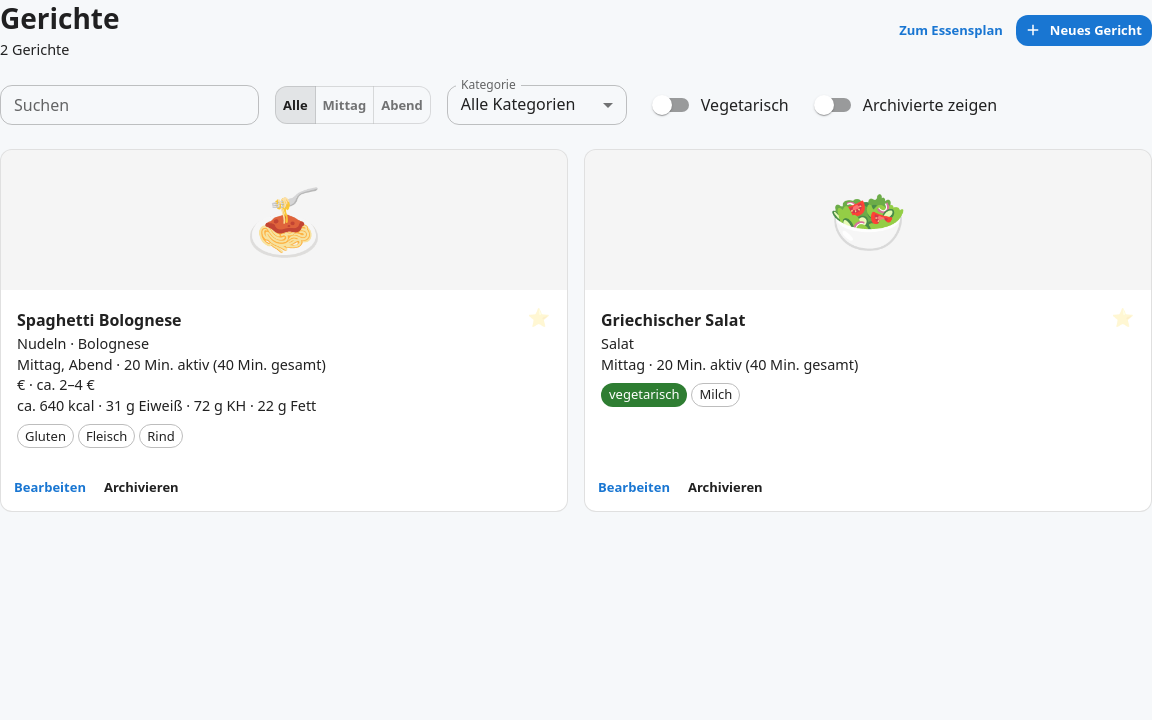
Test: DishesPage (FOOD-010) › opens the editor for a new and an existing dish
Click the button "Neues Gericht". click: (1084, 30)
box: x1=1016 y1=15 x2=1151 y2=46
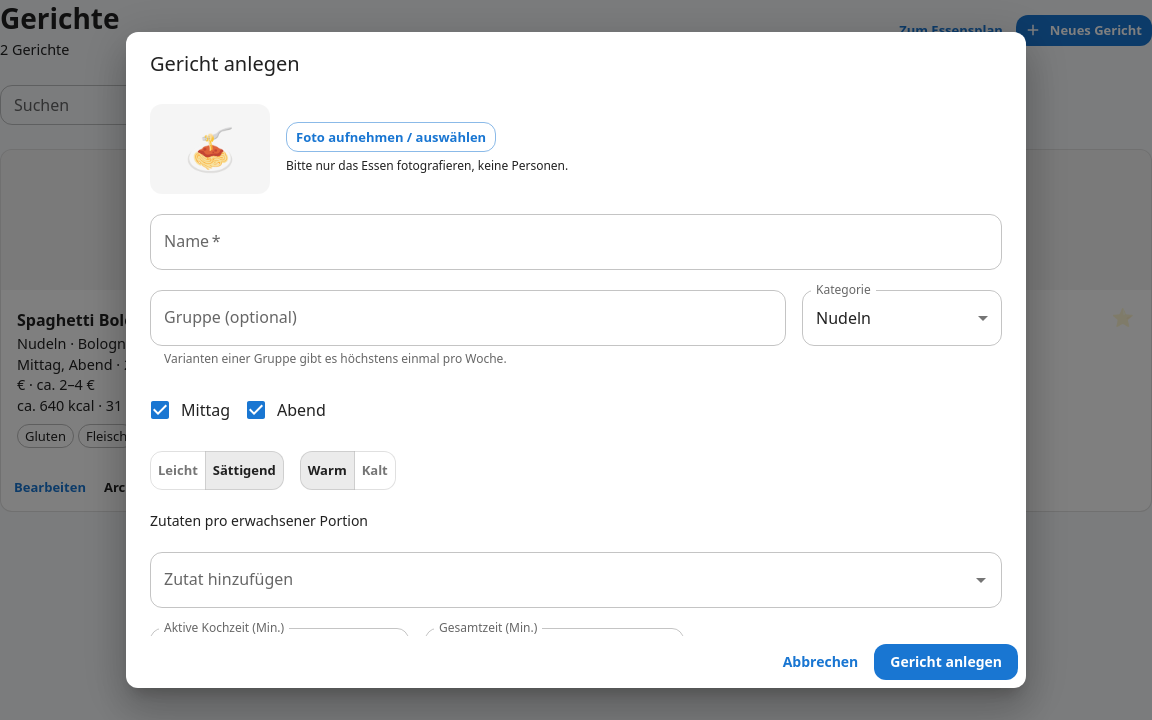
Expected: the dialog "Gericht anlegen" is shown
Click the button "Abbrechen". click: (820, 662)
box: x1=775 y1=644 x2=866 y2=680
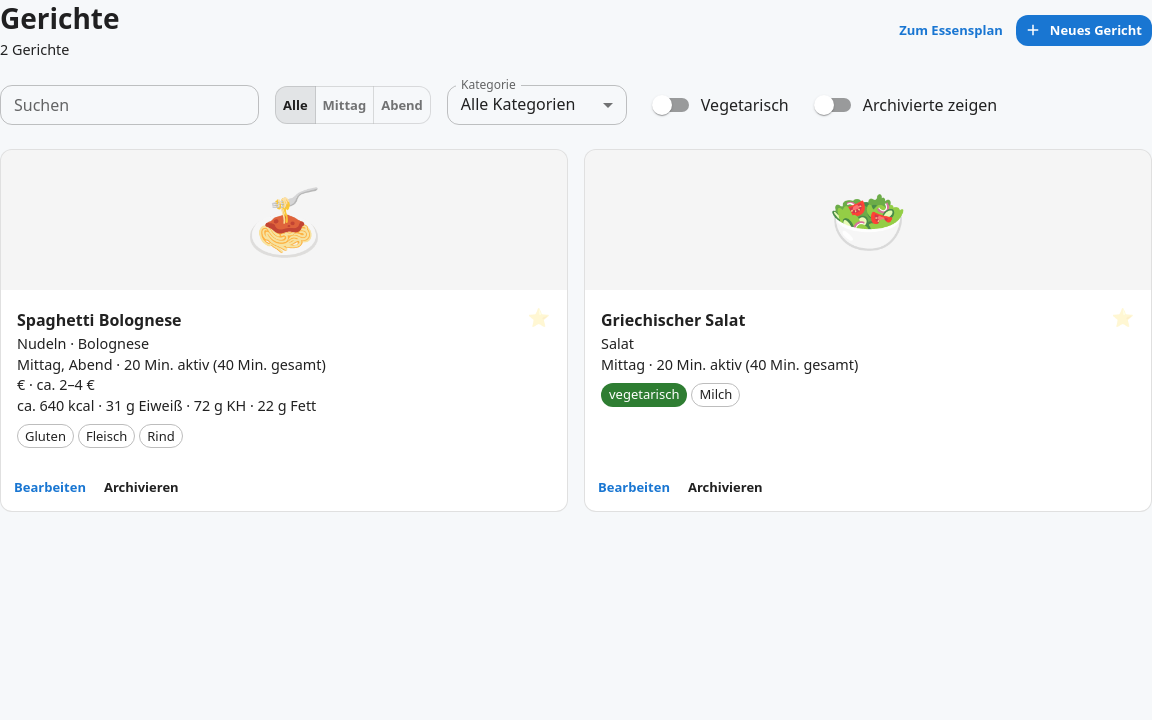
Click the button with aria-label "Spaghetti Bolognese bearbeiten". click: (50, 488)
box: x1=9 y1=472 x2=91 y2=503
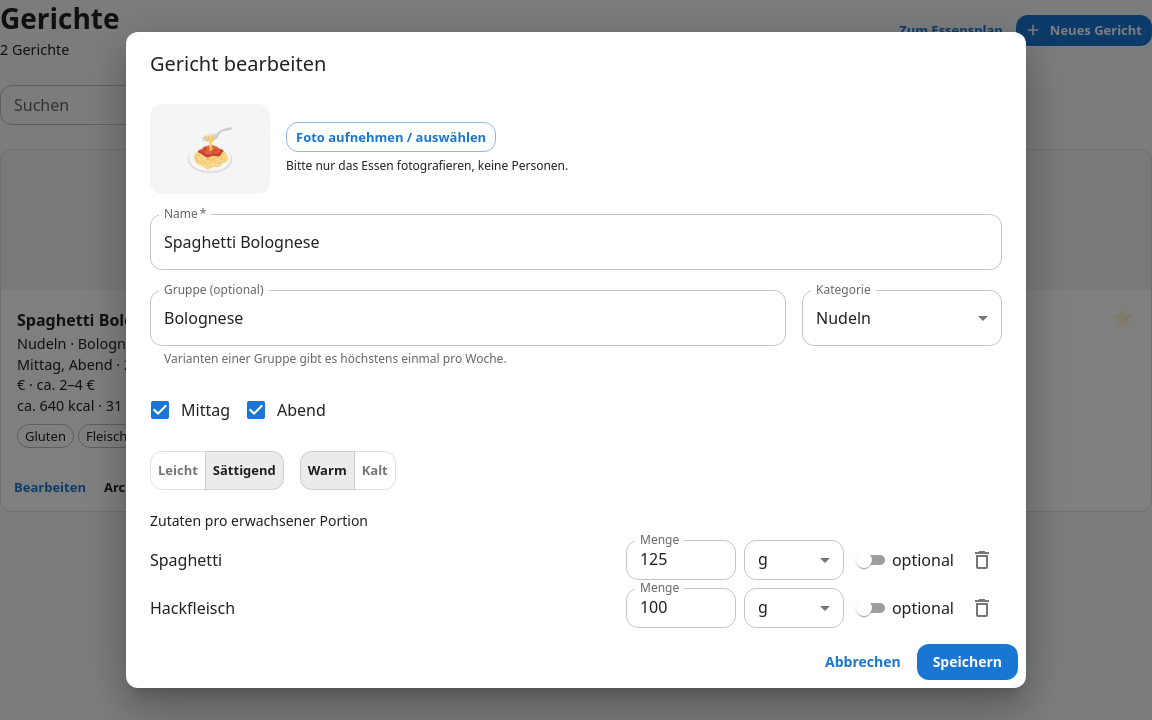
Expected: the field labelled "Name *" holds "Spaghetti Bolognese", x1=150 y1=214 x2=1002 y2=270
